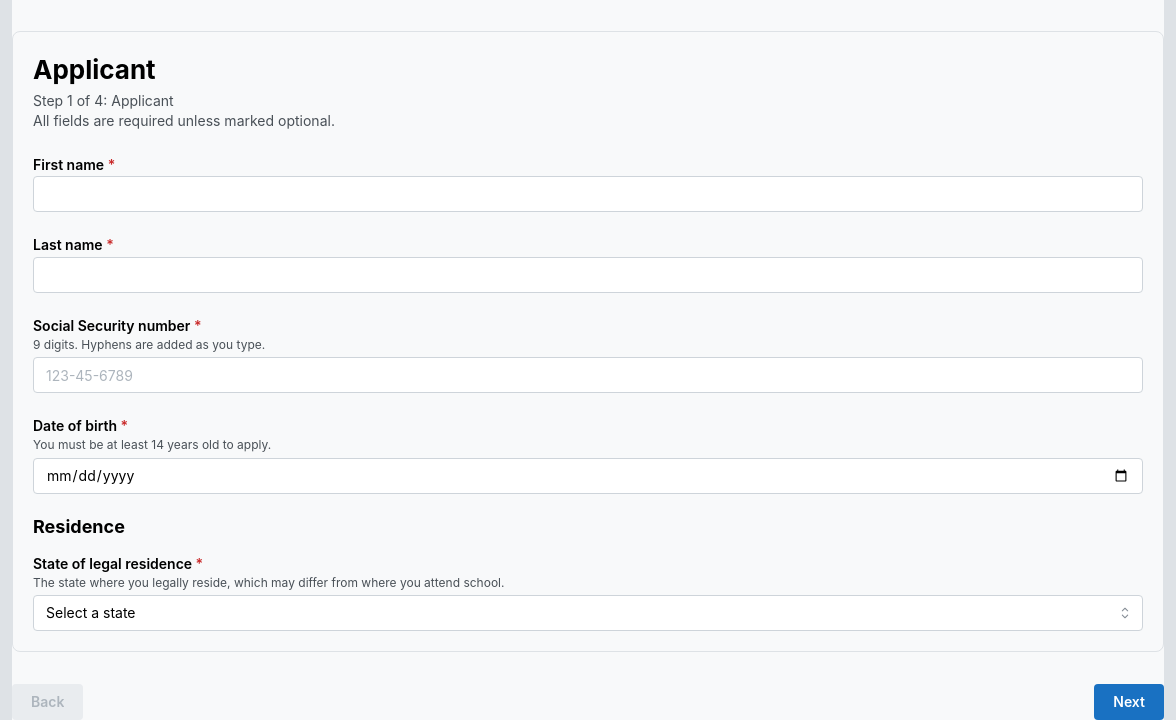
Test case: moving through the wizard › keeps the user on the step when required answers are missing
The image size is (1176, 720).
(page scrolled)
Click the button "Next" at (1129, 702), box [1094, 684, 1164, 719]
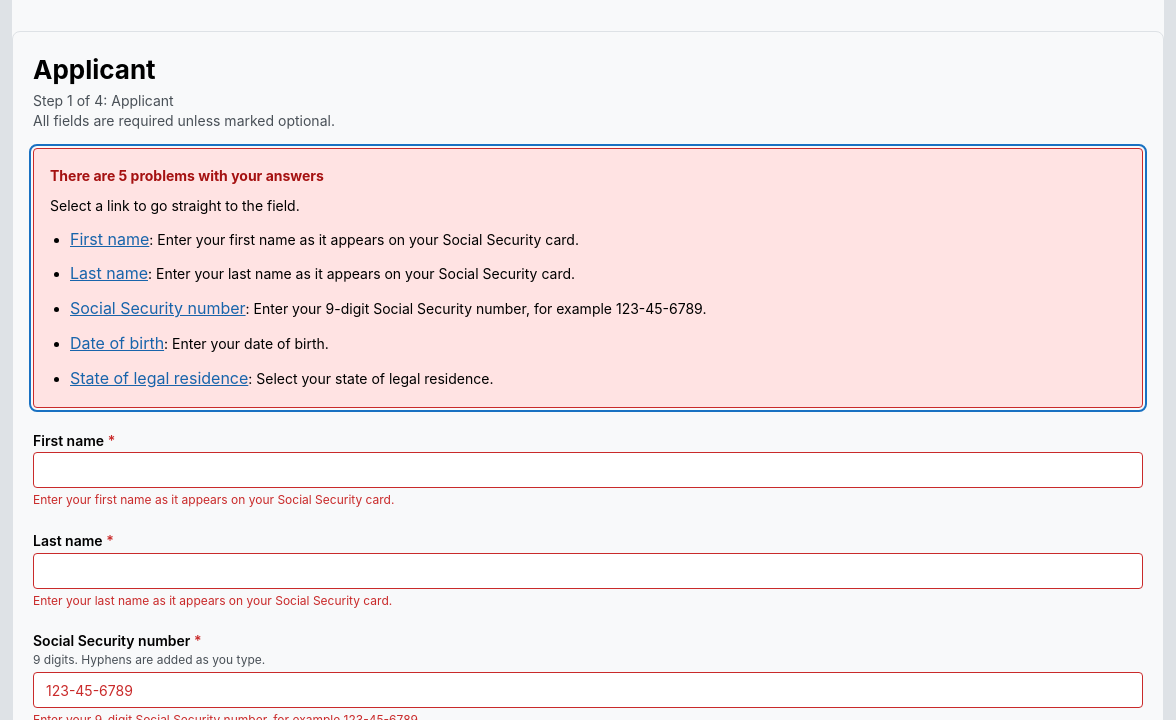
Expected: the heading "Applicant" is shown, [33, 54, 156, 85]
Expected: the message that starts with "There are 5 problems with your answers" is shown, [33, 148, 1143, 408]
